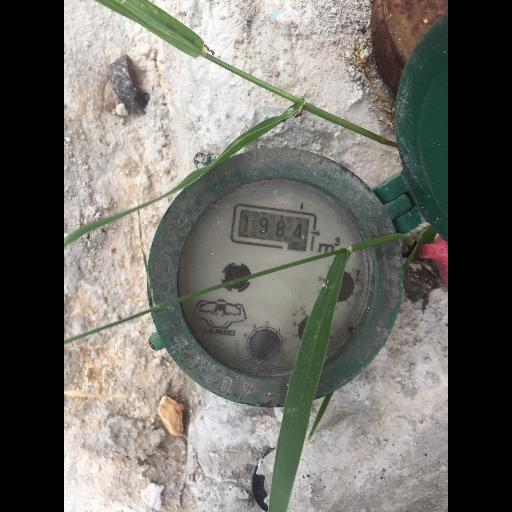1: (240, 210, 254, 238)
4: (289, 217, 307, 251)
8: (272, 214, 288, 242)
9: (256, 212, 272, 240)
border_water_meter_number: (230, 203, 318, 253)
